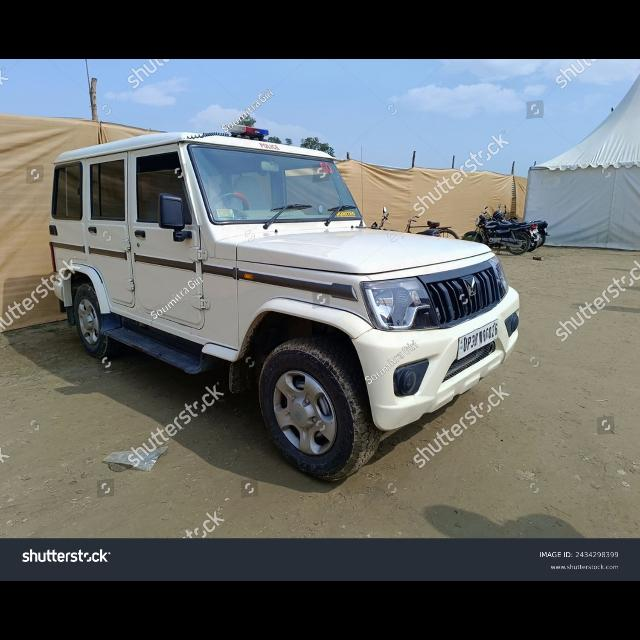vehicles: (51, 126, 492, 478)
